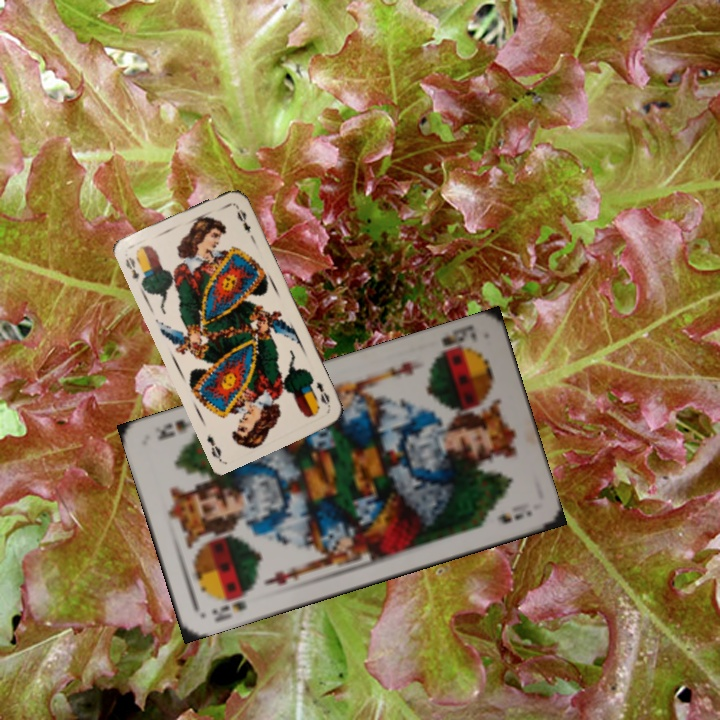EO: (312, 378, 333, 410), (121, 253, 142, 285)
SK: (207, 596, 249, 625), (437, 322, 480, 349)
